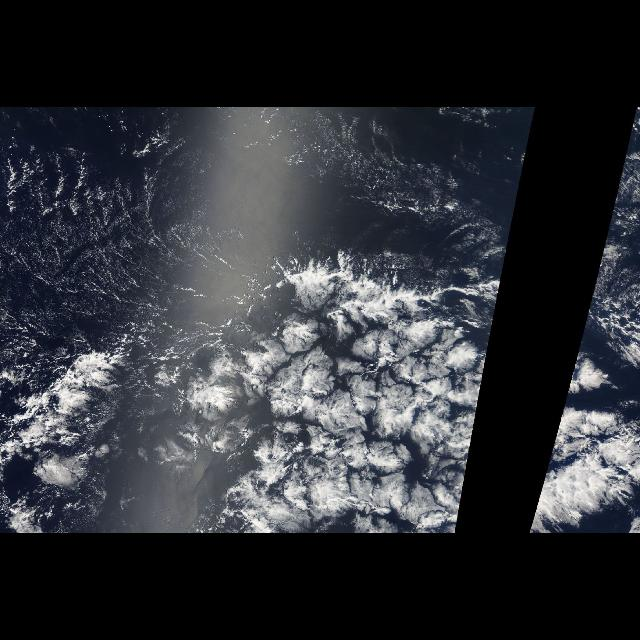Fish: (0, 300, 158, 492)
Flower: (197, 221, 513, 533), (526, 221, 640, 533)
Gravel: (9, 136, 181, 284)
Sugar: (1, 108, 246, 312), (264, 110, 504, 218)
